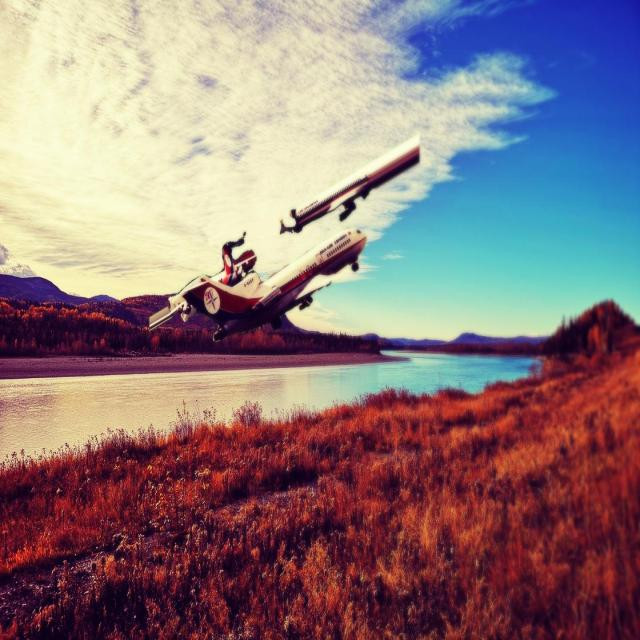airplane: (148, 227, 367, 343), (278, 133, 420, 235)
